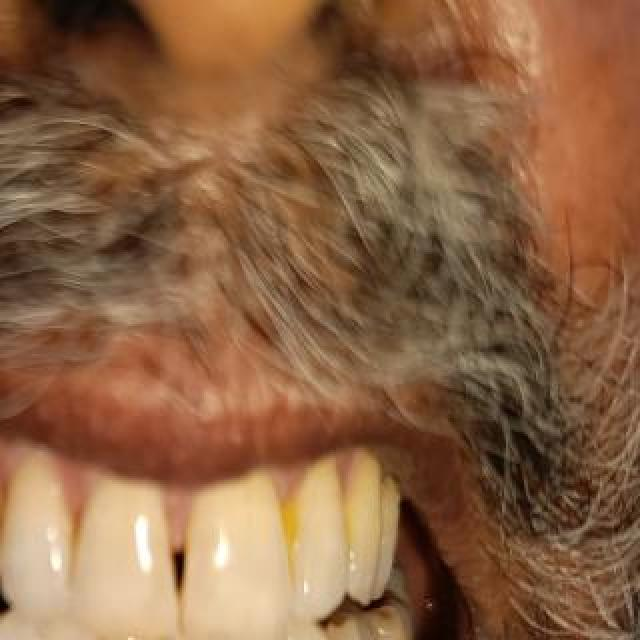plaque: (0, 474, 20, 560)
spacing: (153, 542, 209, 604)
stains: (279, 487, 315, 589), (372, 628, 424, 640), (84, 636, 120, 640)
